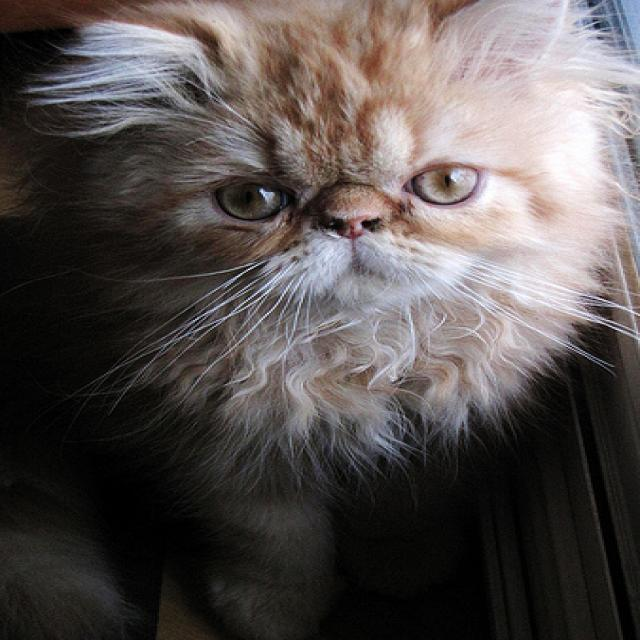Persian: (9, 0, 640, 640)
